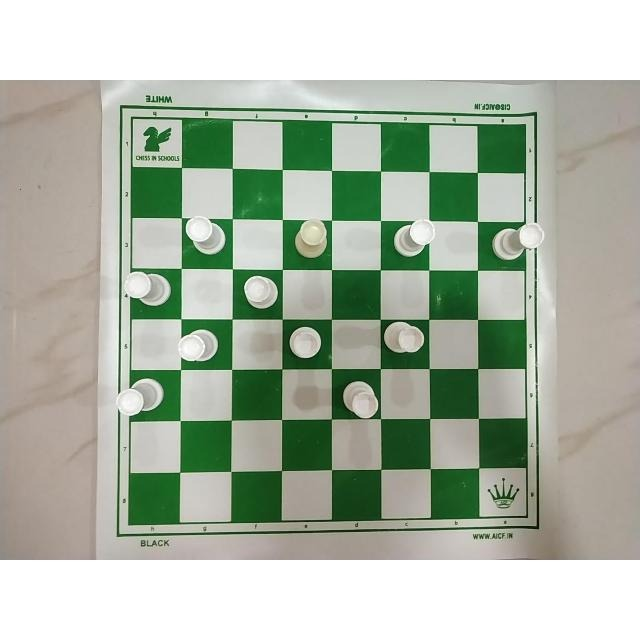white-rook: (117, 374, 169, 422), (486, 222, 545, 264), (120, 268, 174, 310), (337, 378, 383, 422), (391, 217, 437, 260), (379, 320, 426, 360), (183, 214, 227, 256), (290, 217, 330, 260), (238, 273, 280, 313), (177, 327, 221, 365), (285, 324, 325, 365)
